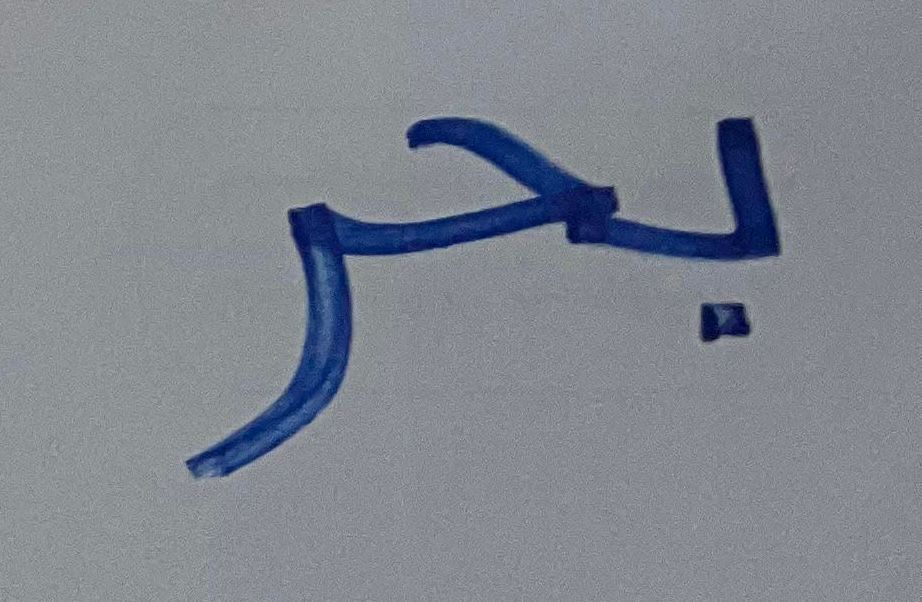kaf: (363, 91, 630, 310)
sad: (155, 160, 359, 495)
zah: (632, 92, 810, 366)
